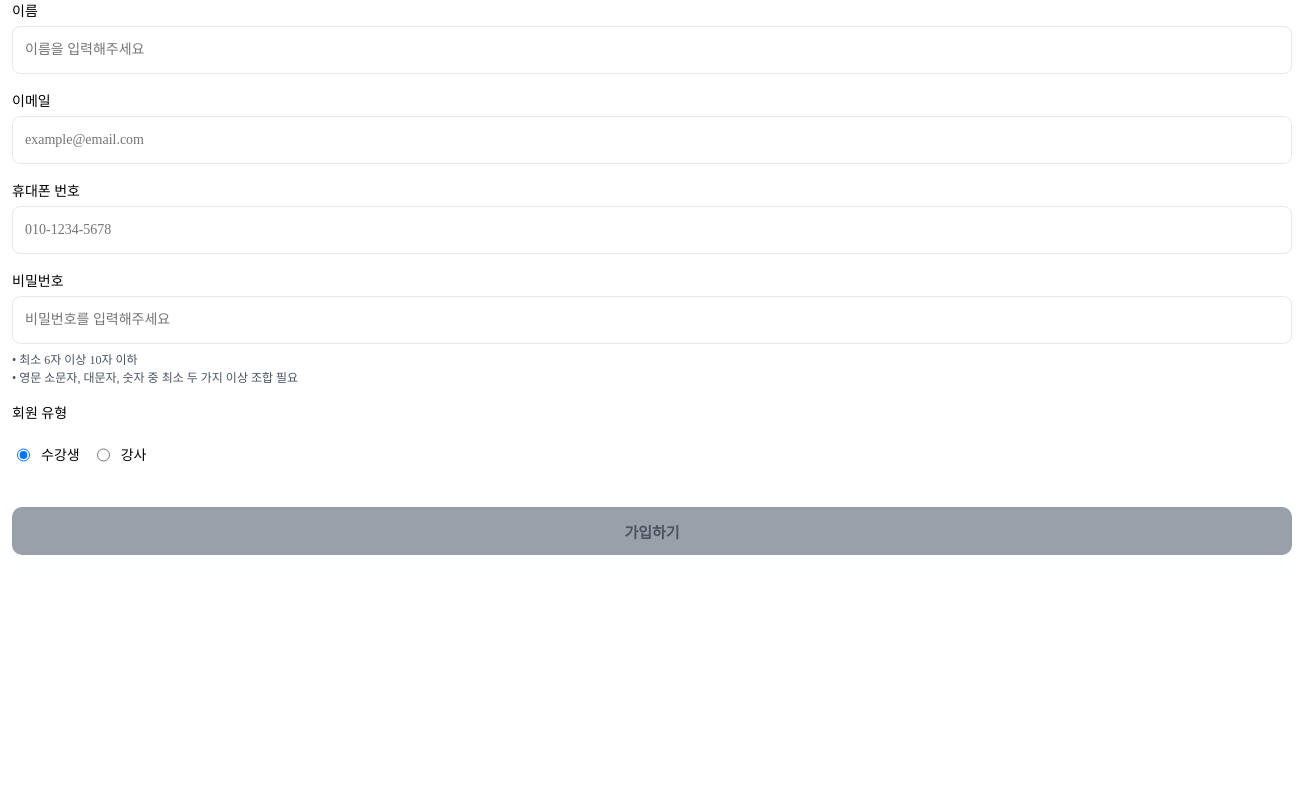
Test: SignUpForm › 비밀번호 규칙 위반 시 에러 메시지를 표시한다
The width and height of the screenshot is (1304, 800).
Type "abc" into the password field with placeholder "비밀번호를 입력해주세요" at (652, 320), box [12, 296, 1292, 344]
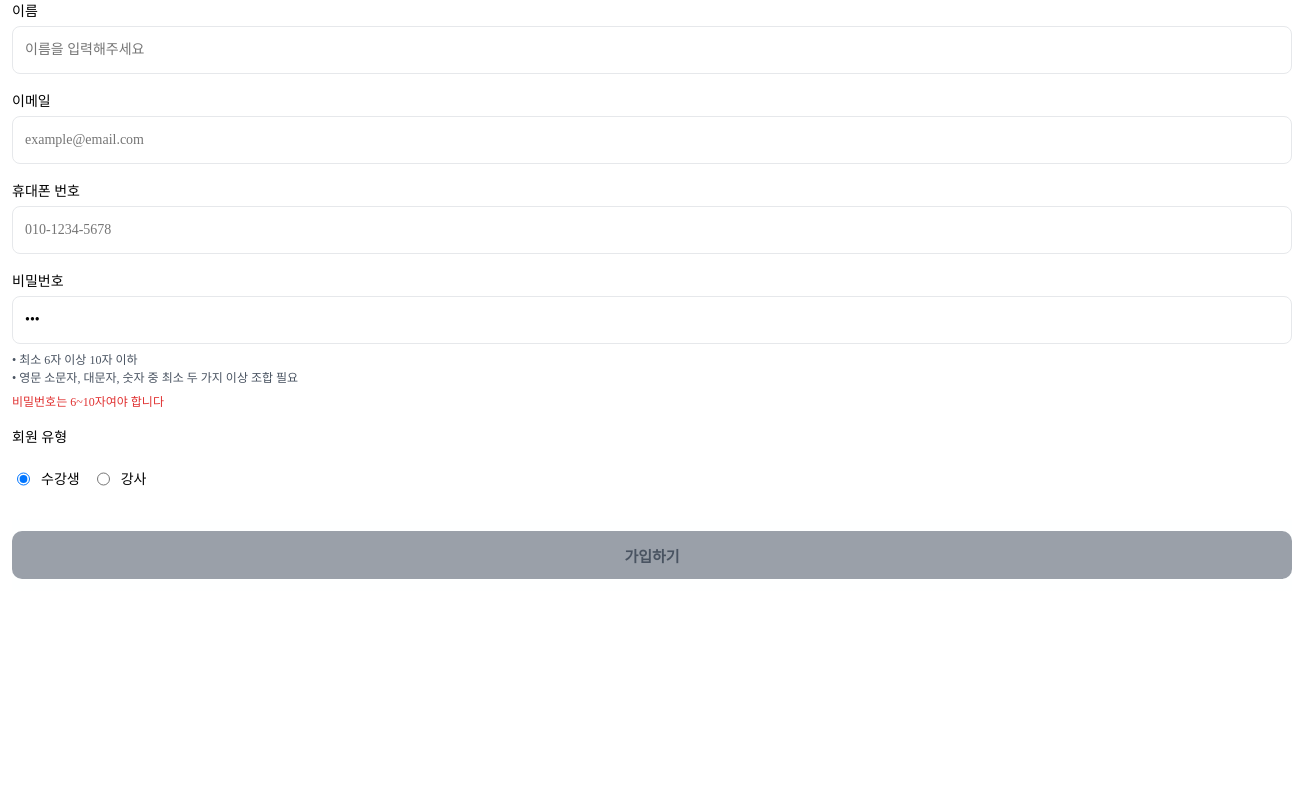
Now the text "비밀번호는 6~10자여야 합니다" is shown, box [12, 395, 164, 409]
